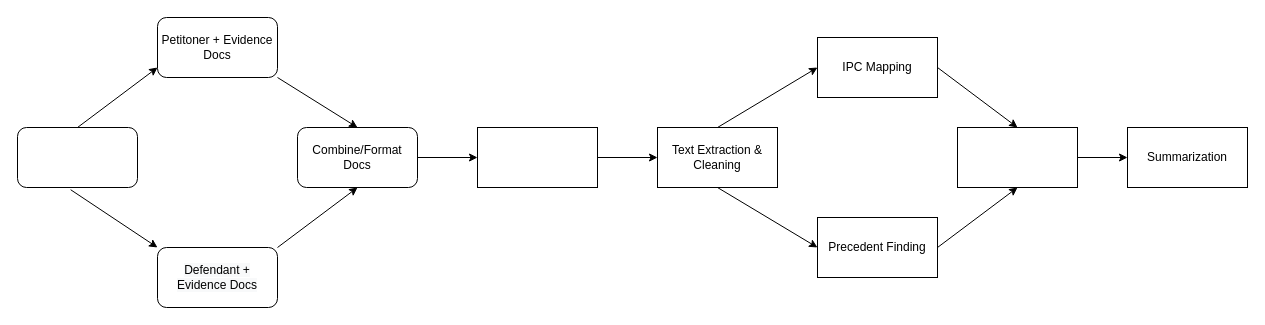
Image size: 1265x325. Some labels were removed from this diagram. The box of each missing label's shape, as (x1, y1, x2, y2) in pixels:
Calculate Truth via Evidence & Alibi: (476, 126, 598, 188)
Legal Documents: (16, 126, 138, 188)
Verdict Prediction: (956, 126, 1078, 188)
